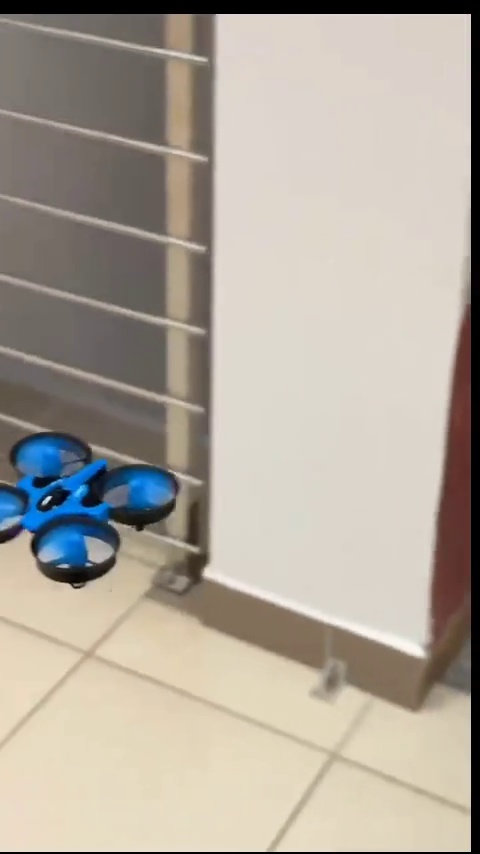drone: (0, 428, 183, 589)
